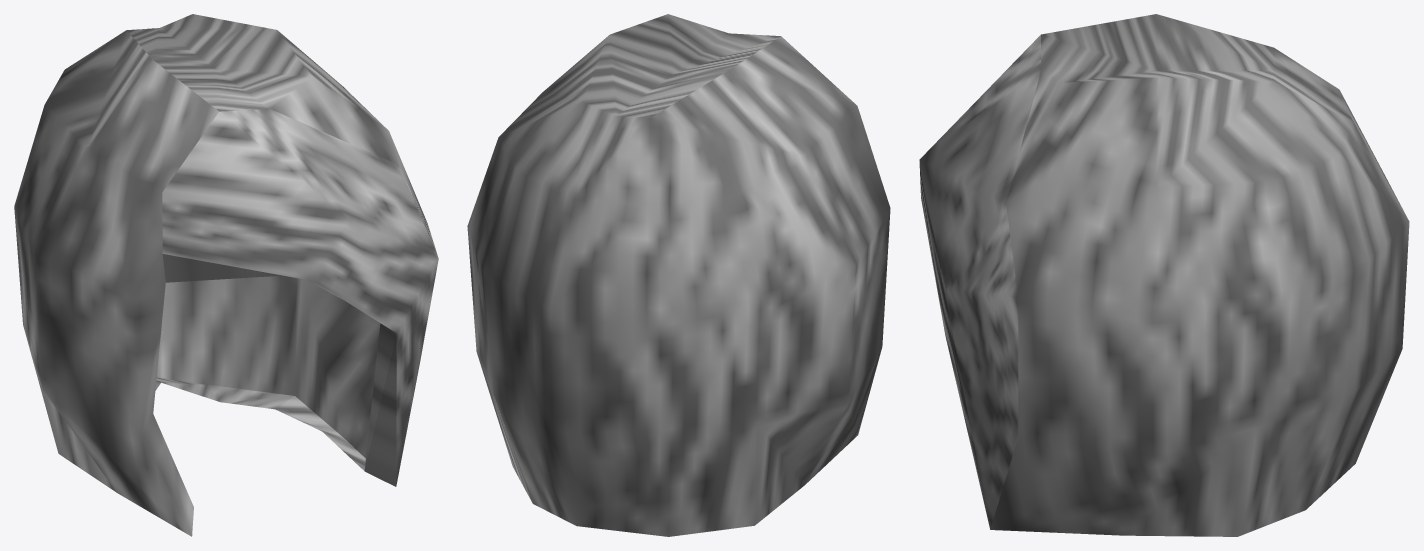
The model's file is Wig_F_Hair_OverEye.fbx.
3 views of the same model, side by side, from view 1: azimuth 30°, elevation 25°; view 2: azimuth 150°, elevation 25°; view 3: azimuth 270°, elevation 25° (orthographic). The views are drawn at different scales.
Parts seen in each view (by area): view 1: BoxOfJars003; view 2: BoxOfJars003; view 3: BoxOfJars003.
Boxes of the visible parts, x1,y1,x2,y2 form: BoxOfJars003: [14, 14, 438, 536]; BoxOfJars003: [467, 14, 890, 536]; BoxOfJars003: [919, 14, 1409, 536].
Size of the model in its own units: 13.17 by 14.38 by 14.8.
